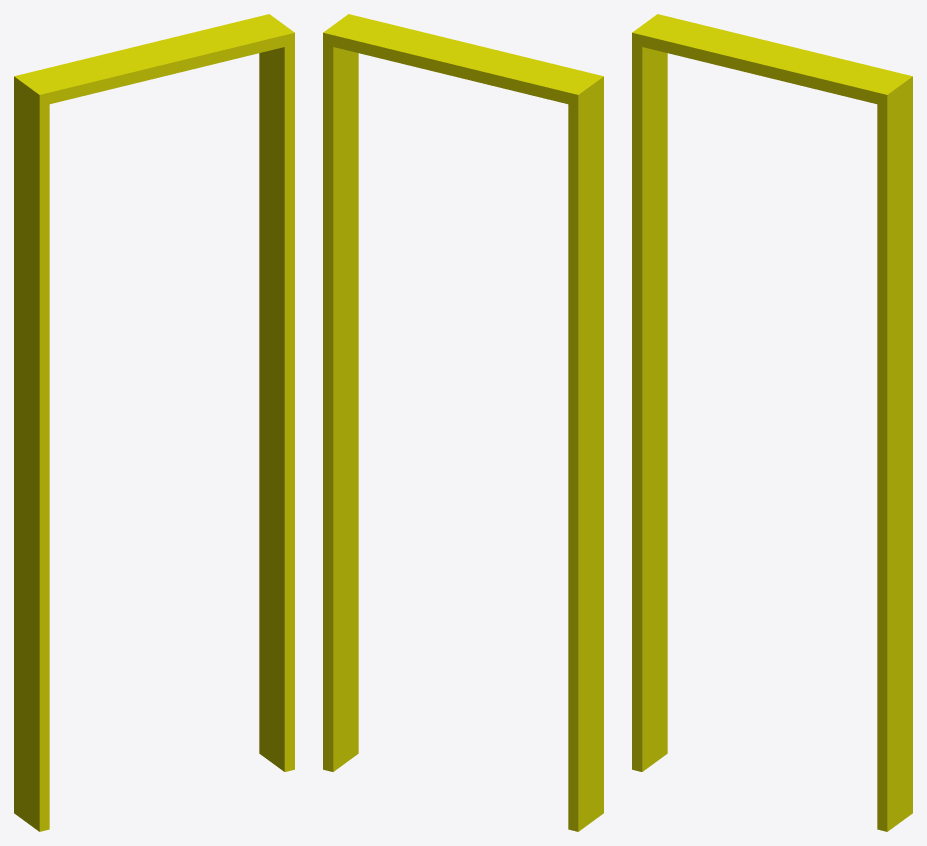
Rendered from Frame5.fbx.
3 renders of one model, left to right at view 1: azimuth 30°, elevation 25°; view 2: azimuth 150°, elevation 25°; view 3: azimuth 330°, elevation 25°, orthographic.
Parts seen in each view (by area): view 1: Frame5; view 2: Frame5; view 3: Frame5.
Part boxes in pixels (<box>): Frame5: <box>14,14,294,831</box>; Frame5: <box>323,14,603,831</box>; Frame5: <box>632,14,912,831</box>.
Bounding box in the file's own units: 112 × 309 × 19.43.
